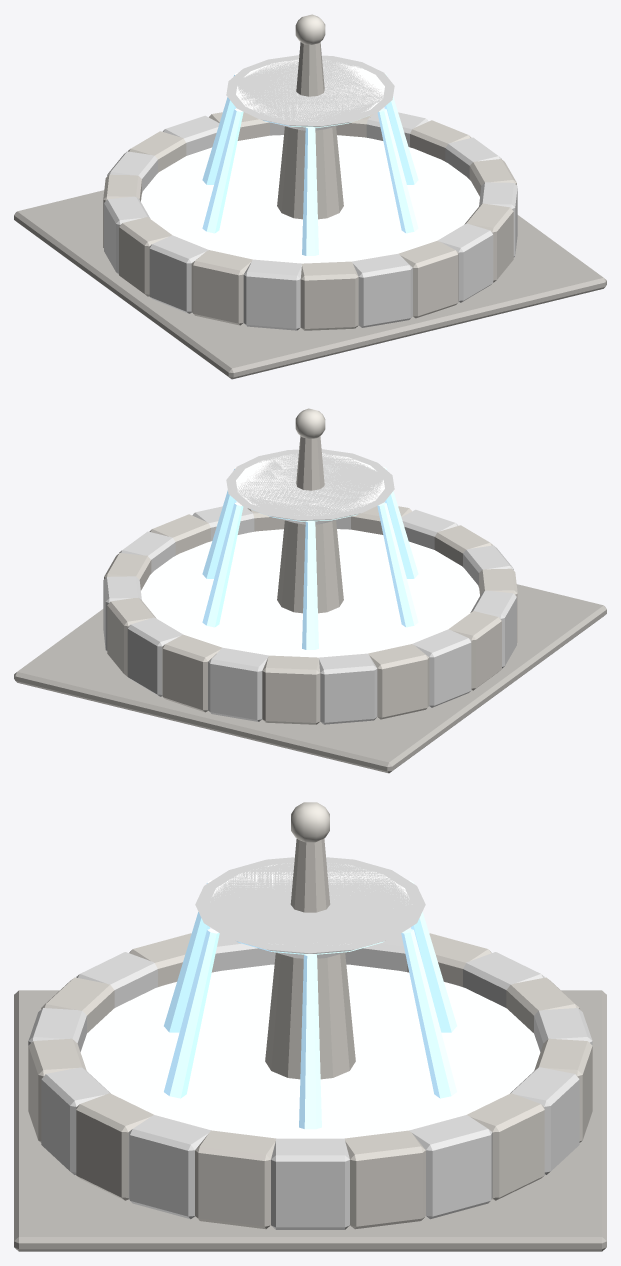
Rendered from prop_fountain.glb.
3 views of the same model, one above another, from view 1: azimuth 30°, elevation 25°; view 2: azimuth 150°, elevation 25°; view 3: azimuth 270°, elevation 25° (orthographic). The views are drawn at different scales.
Parts seen in each view (by area): view 1: prop_fountain; view 2: prop_fountain; view 3: prop_fountain.
Part boxes in pixels (x1,y1,x2,y2): prop_fountain: (14,14,606,379); prop_fountain: (14,408,606,773); prop_fountain: (14,802,606,1251).
Size of the model in its own units: 3.6 by 2.17 by 3.6.
